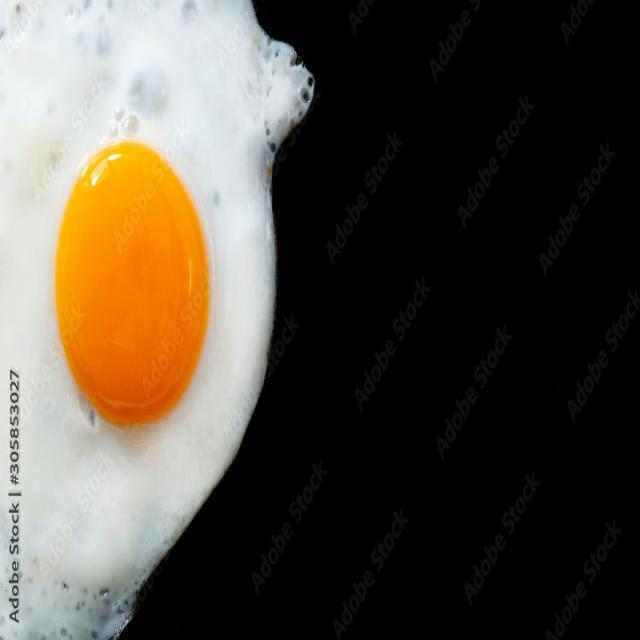Egg: (0, 0, 314, 637)
